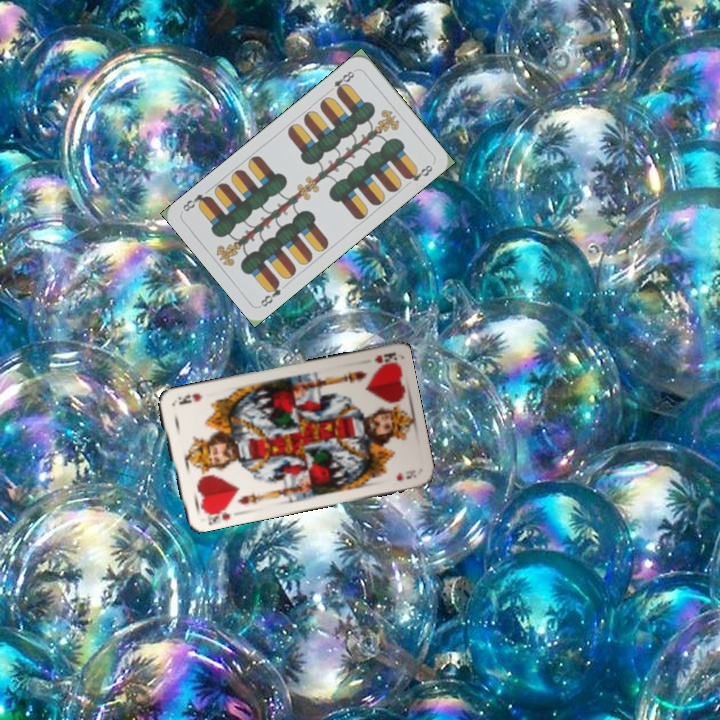E8: (324, 66, 359, 97), (256, 277, 284, 310)
HK: (200, 502, 232, 526), (370, 349, 397, 368)
